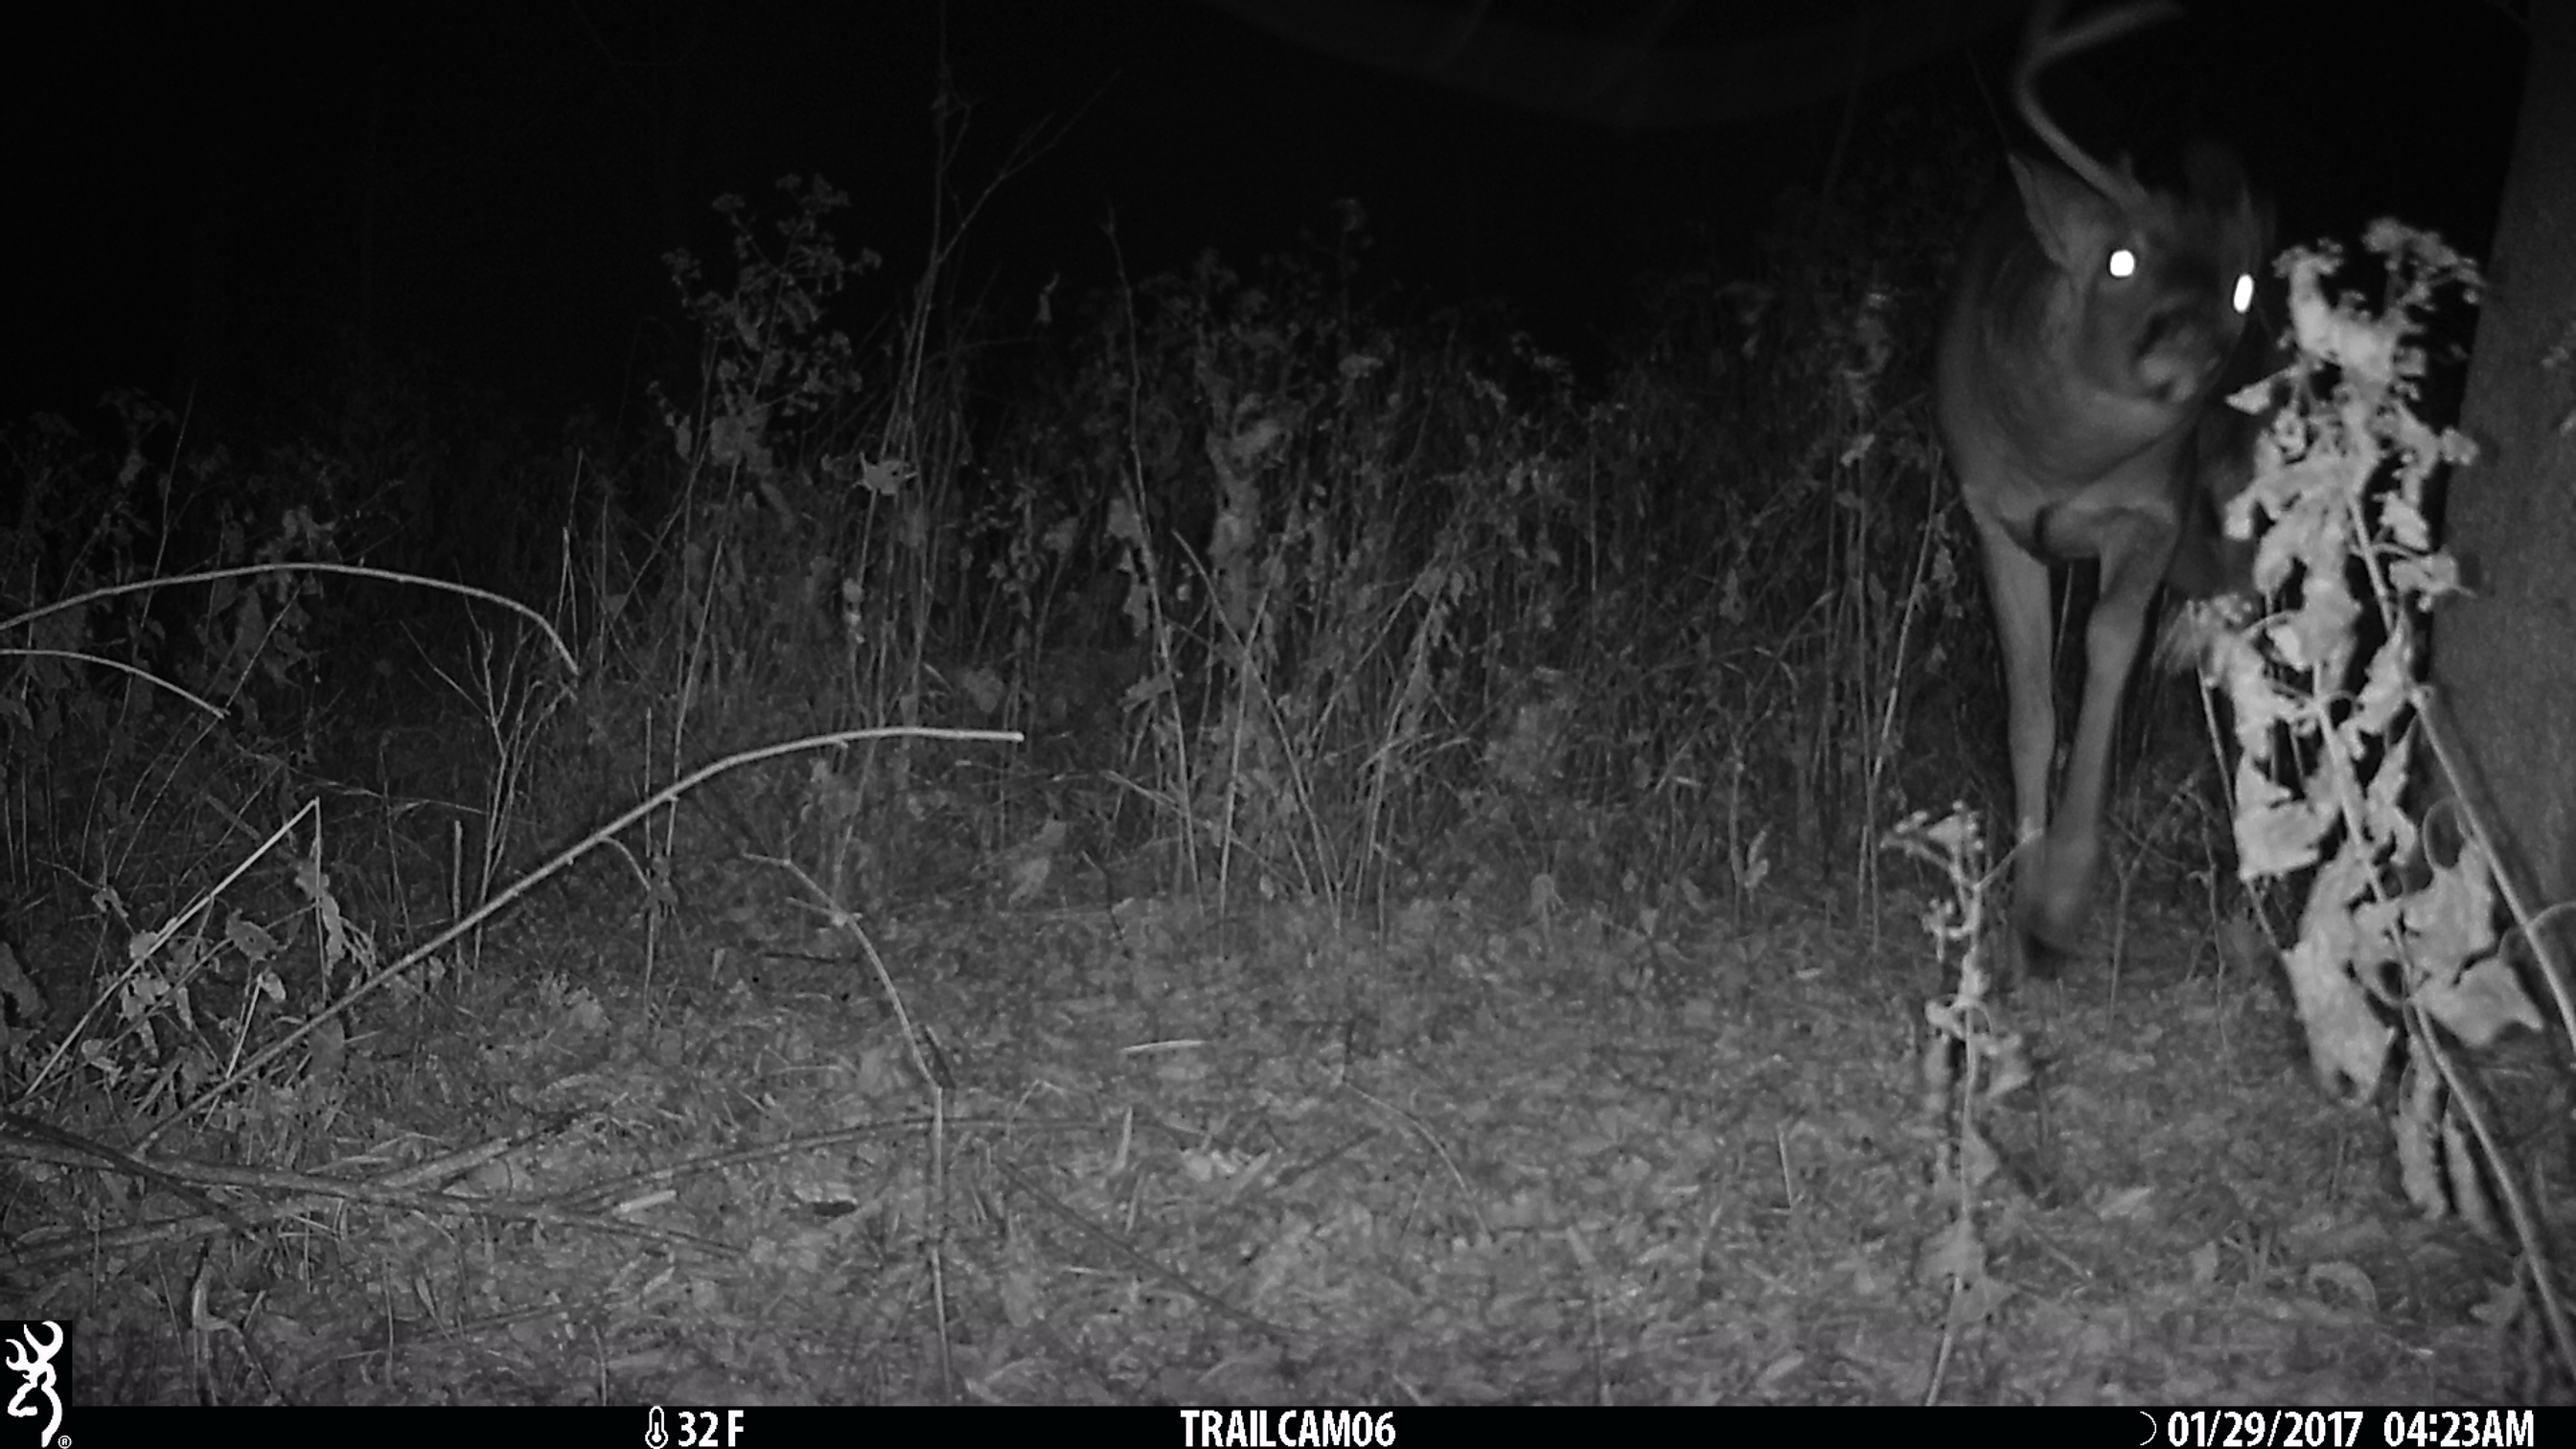DeerBuck: (1927, 1, 2309, 981)
DeerBuckHead: (2020, 1, 2306, 408)
